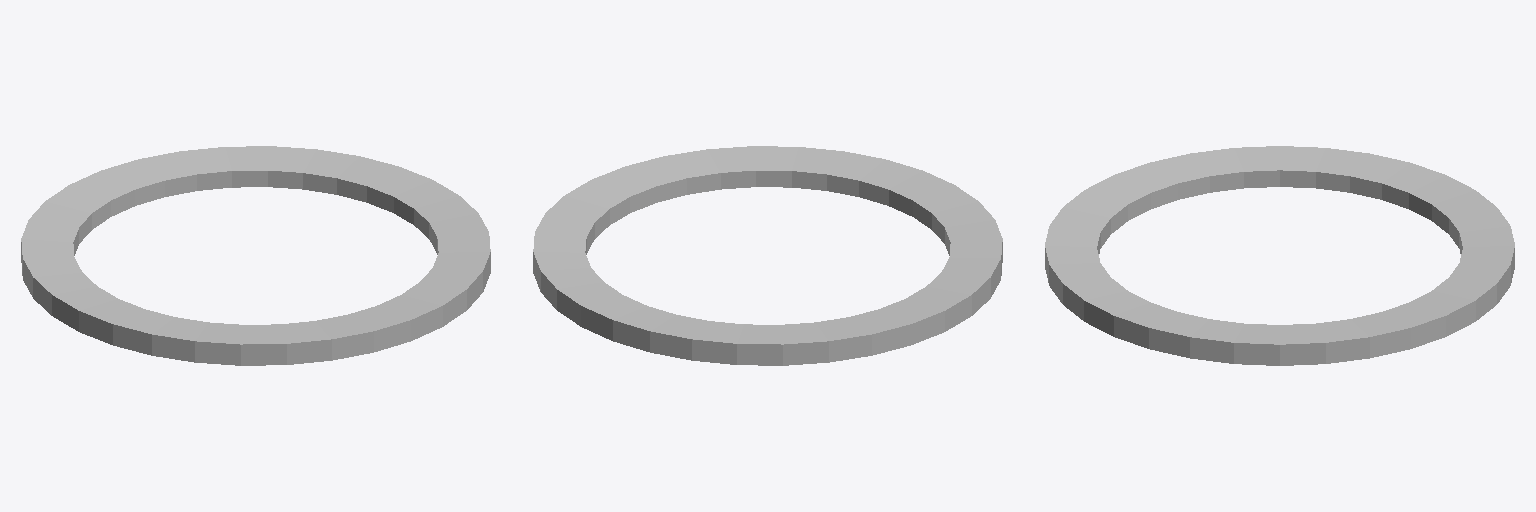
The model's file is ring.obj.
3 renders of one model, left to right at view 1: azimuth 30°, elevation 25°; view 2: azimuth 150°, elevation 25°; view 3: azimuth 270°, elevation 25°, orthographic.
Visible parts, largest first — view 1: Circle_Circle.004; view 2: Circle_Circle.004; view 3: Circle_Circle.004.
Part boxes in pixels (left/top/right/bottom): Circle_Circle.004: left=21, top=146, right=490, bottom=365; Circle_Circle.004: left=533, top=146, right=1002, bottom=365; Circle_Circle.004: left=1045, top=146, right=1514, bottom=365.
Size of the model in its own units: 2 by 0.1 by 2.